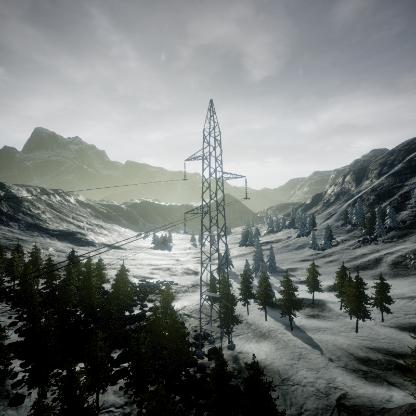tower: (179, 96, 252, 353)
